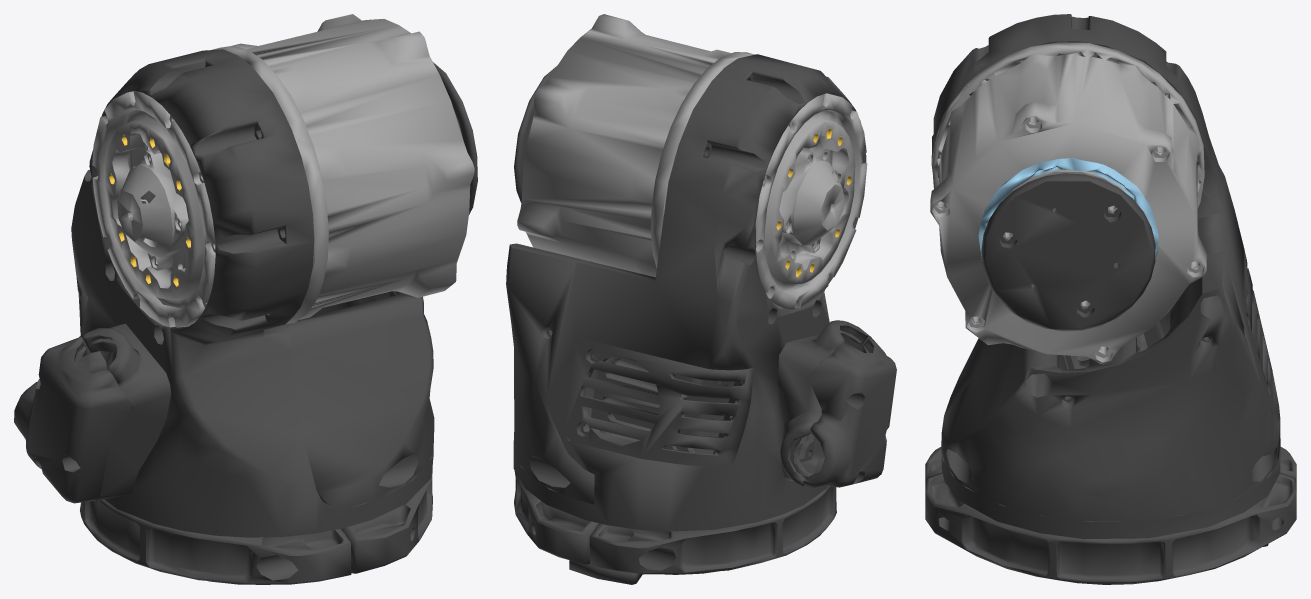
The model's file is r_shoulder_y_purdue.obj.
3 views of the same model, side by side, from view 1: azimuth 30°, elevation 25°; view 2: azimuth 150°, elevation 25°; view 3: azimuth 270°, elevation 25° (orthographic). The views are drawn at different scales.
Visible parts, largest first — view 1: r_shoulder_y_purdue; view 2: r_shoulder_y_purdue; view 3: r_shoulder_y_purdue.
Boxes of the visible parts, x1,y1,x2,y2 form: r_shoulder_y_purdue: (14, 14, 477, 584); r_shoulder_y_purdue: (506, 14, 896, 584); r_shoulder_y_purdue: (925, 14, 1296, 584).
Bounding box in the file's own units: 0.1243 × 0.1604 × 0.1139.
